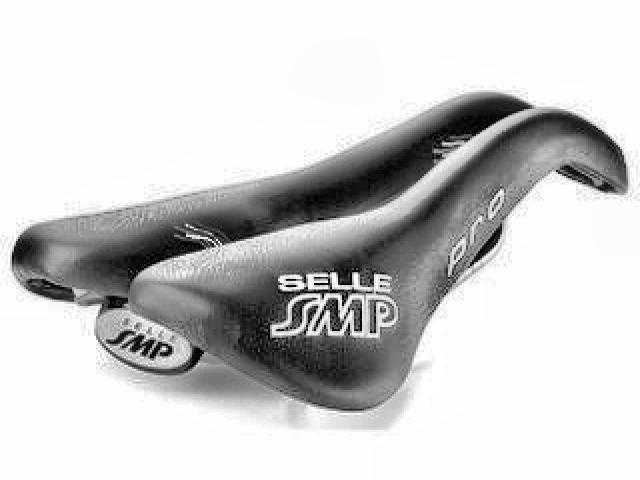saddle: (4, 87, 633, 421)
